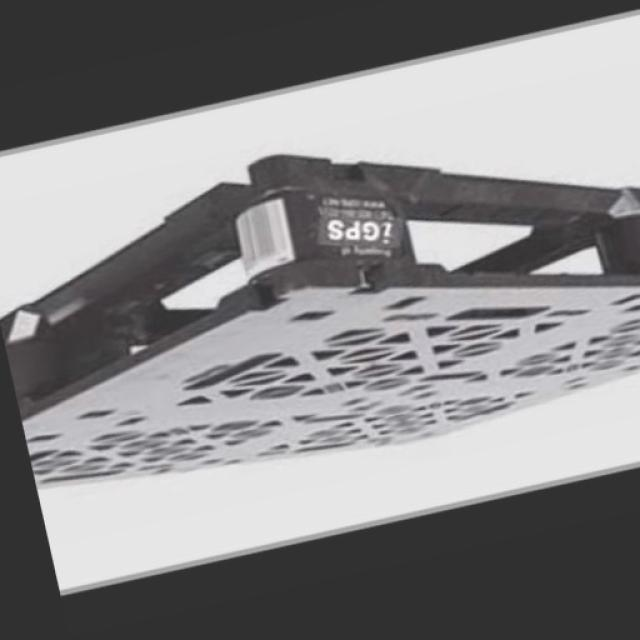igps: (0, 139, 640, 494)
